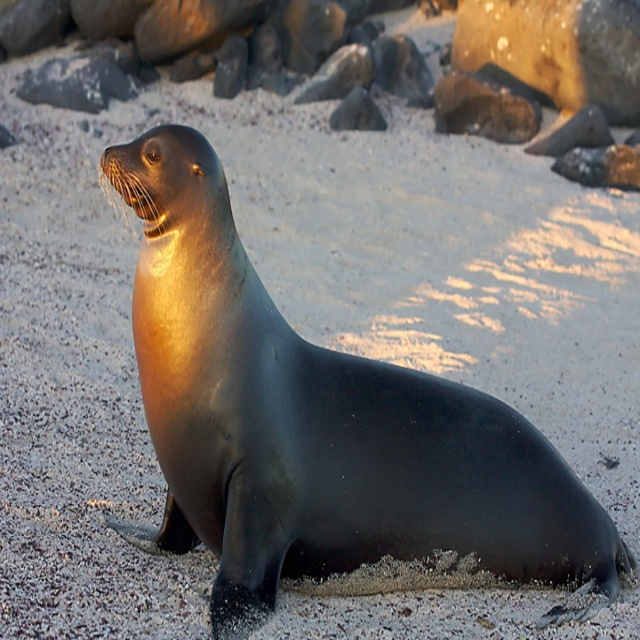Sea lion: (98, 125, 636, 639)
